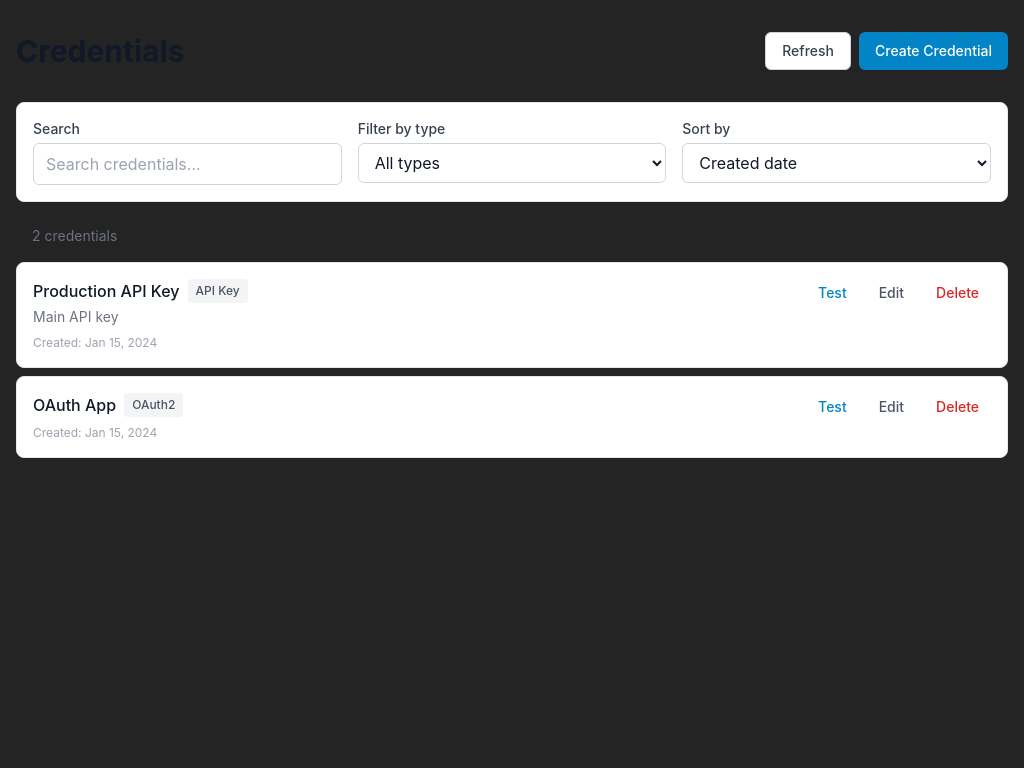
Test case: CredentialManager › shows delete confirmation when delete button is clicked
Click the button "Delete" in the row of "Production API Key": (958, 293) [924,279,991,307]
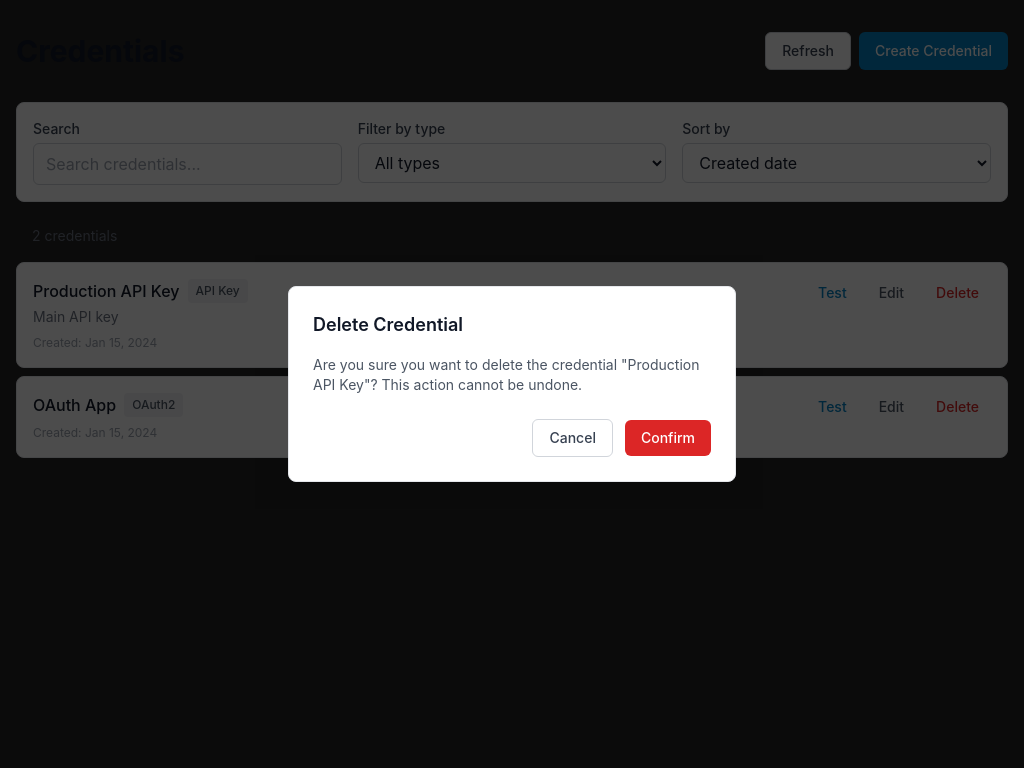
Expected: the heading "Production API Key" is shown, [33,279,180,303]
Expected: the text "Are you sure you want to delete" is shown, [313,356,628,373]
